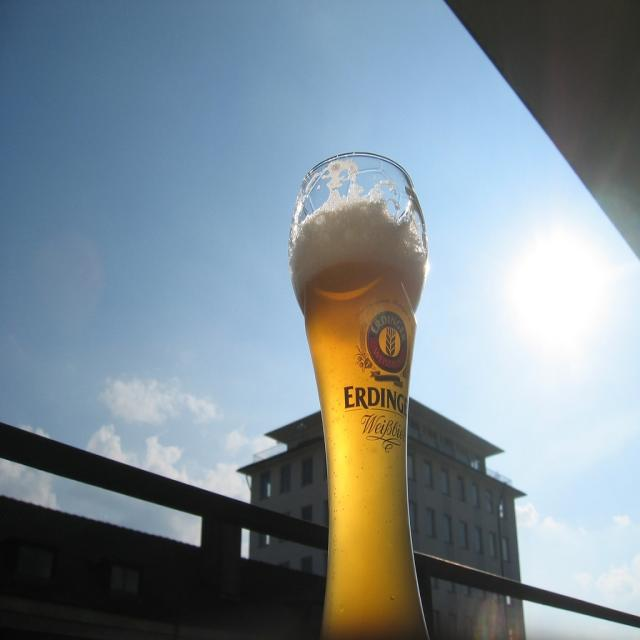erdinger: (341, 298, 415, 421)
